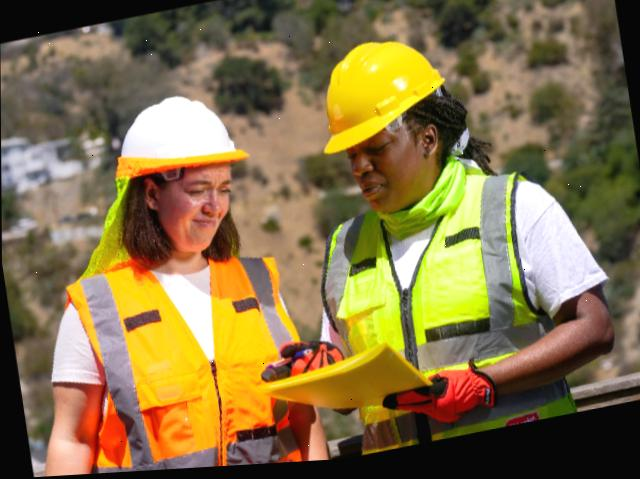helmet: (298, 37, 447, 156), (116, 87, 245, 184)
vest: (46, 232, 319, 477), (323, 193, 549, 462)
